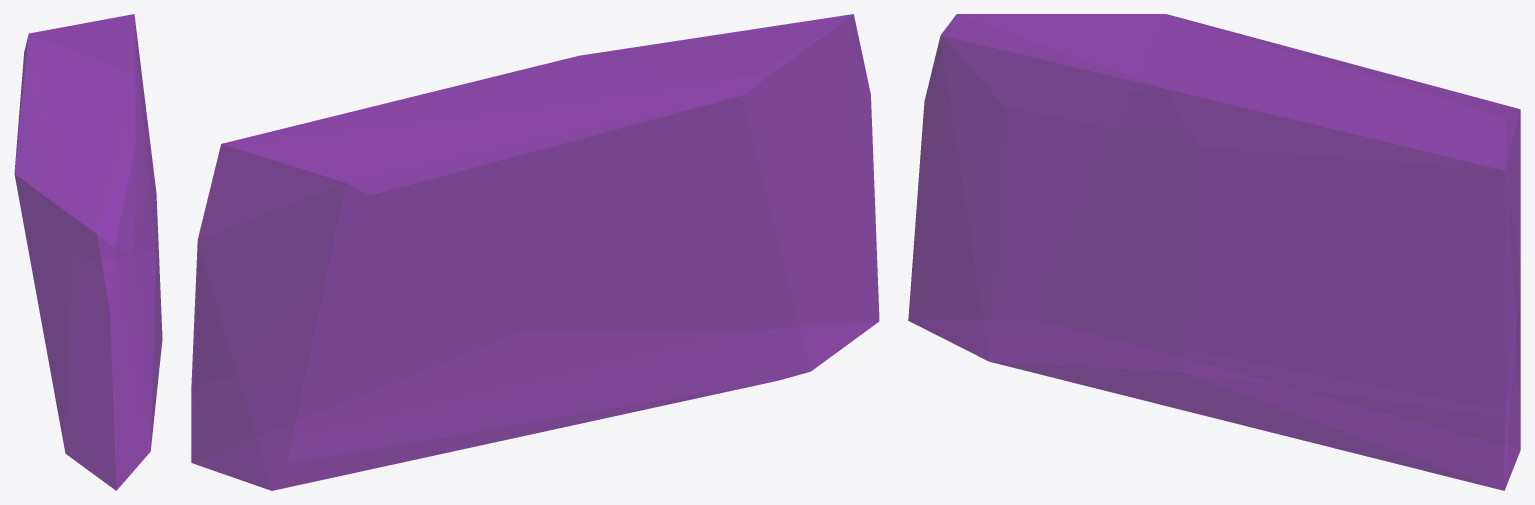
3 views of the same model, side by side, from view 1: azimuth 30°, elevation 25°; view 2: azimuth 150°, elevation 25°; view 3: azimuth 270°, elevation 25° (orthographic). The views are drawn at different scales.
Parts seen in each view (by area): view 1: Shape_IndexedFaceSet.036_Shape_IndexedFaceSet.14712; view 2: Shape_IndexedFaceSet.036_Shape_IndexedFaceSet.14712; view 3: Shape_IndexedFaceSet.036_Shape_IndexedFaceSet.14712.
Boxes of the visible parts, x1,y1,x2,y2 form: Shape_IndexedFaceSet.036_Shape_IndexedFaceSet.14712: (14,14,162,490); Shape_IndexedFaceSet.036_Shape_IndexedFaceSet.14712: (191,14,879,490); Shape_IndexedFaceSet.036_Shape_IndexedFaceSet.14712: (908,14,1520,490).
Size of the model in its own units: 0.0688 by 0.0578 by 0.1046.
